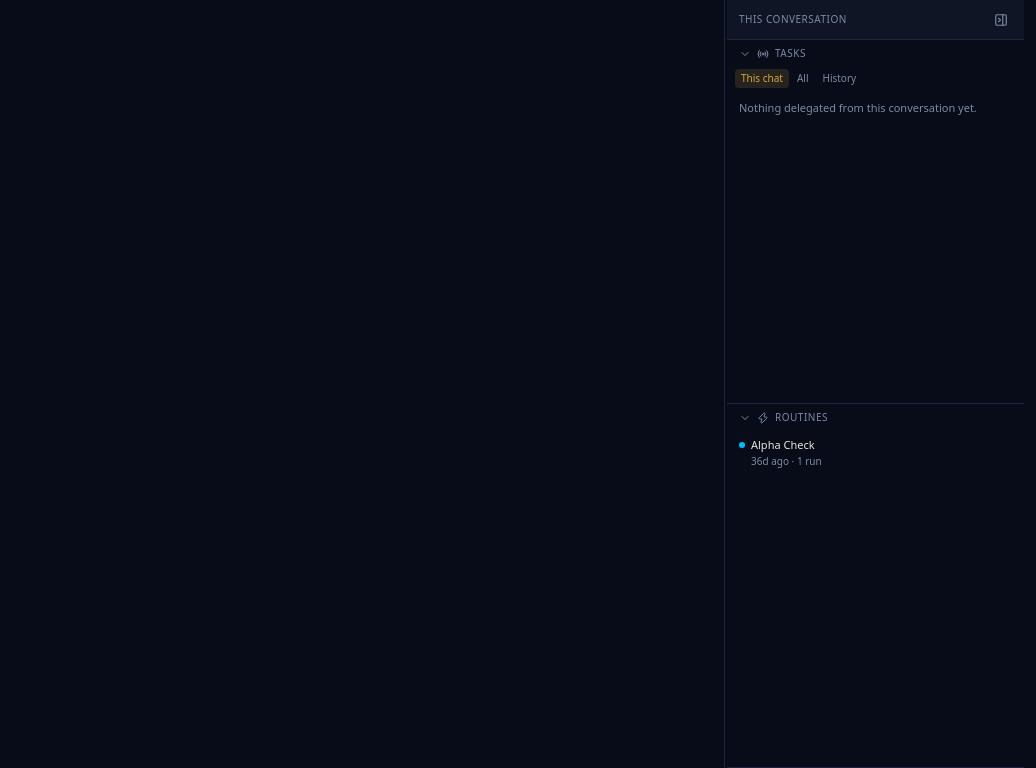
the scope's default › is the agent being talked to
Click the button "Alpha Check 36d ago · 1 run" at (783, 444), box [727,431,1024,474]
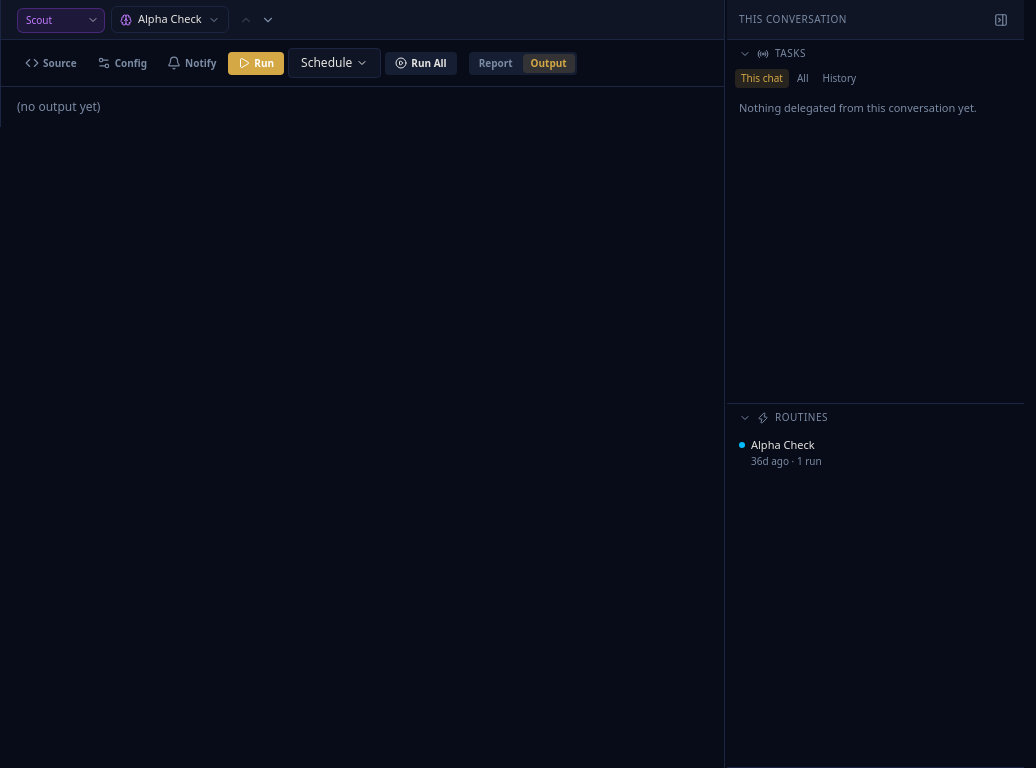
Expected: the dropdown named "Routine scope" shows "Scout", [17,8,105,33]
